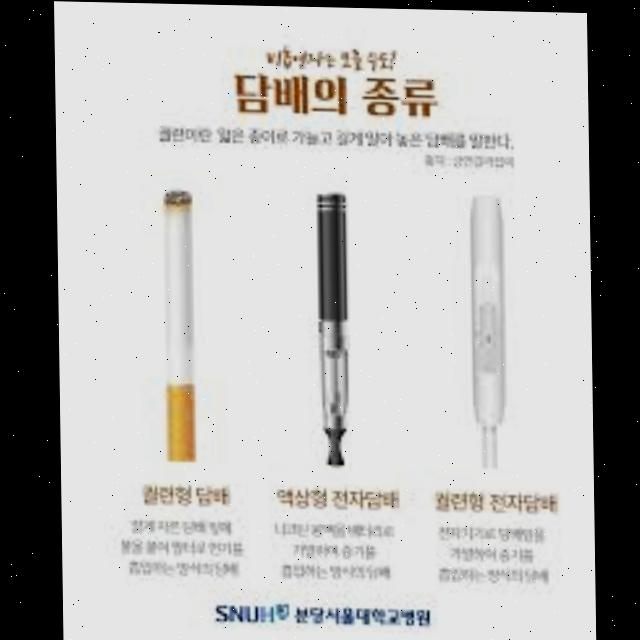cigarette: (162, 188, 195, 462)
vape: (467, 191, 504, 470), (315, 191, 347, 464)
